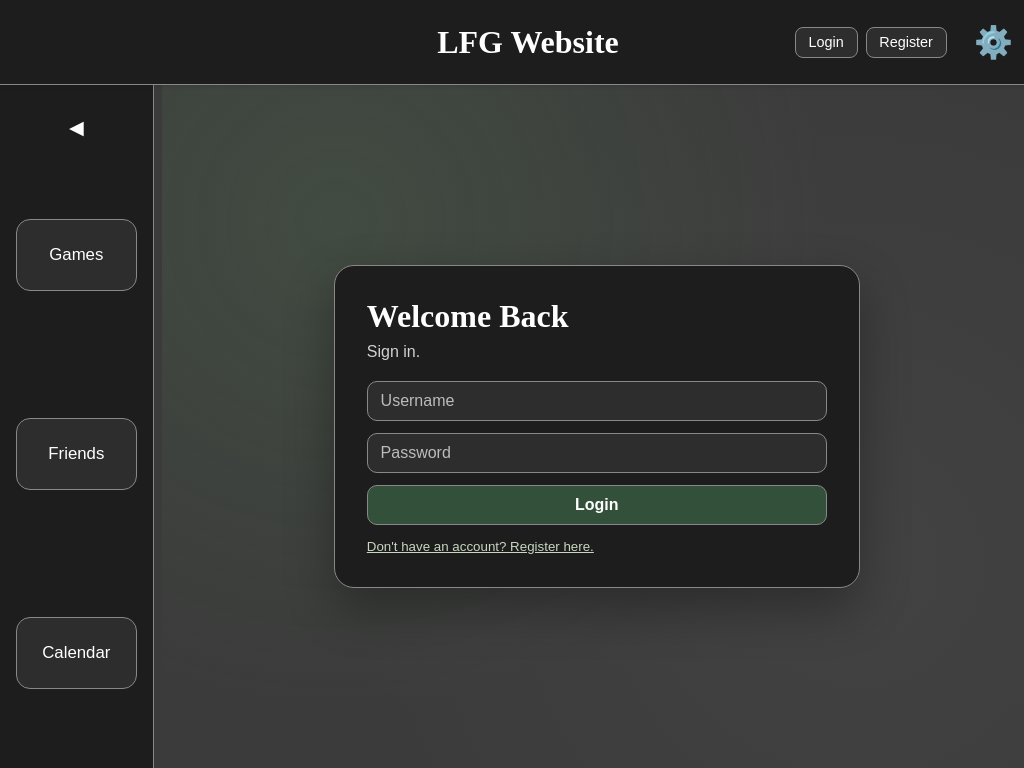
Test: login_page › shows required field error
Click the button with class "login-submit".
click(597, 506)  # box [367,485,827,526]
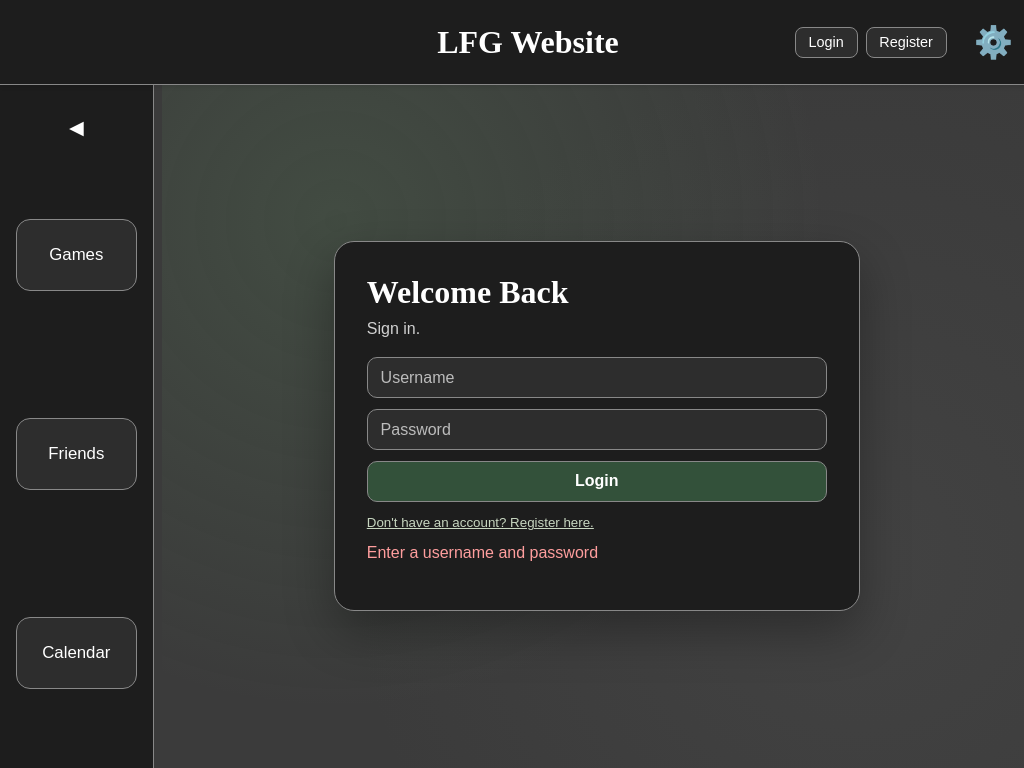
Now the text "Enter a username and password" is shown, box [367,544,598,561]
